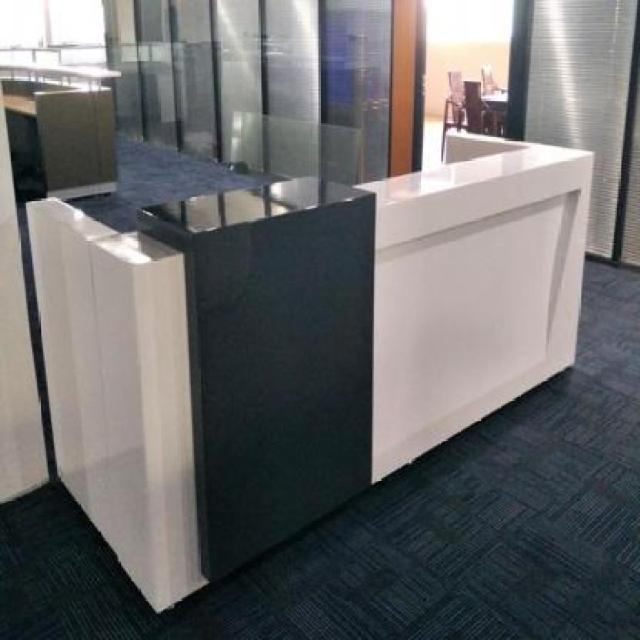frontdesk: (40, 106, 625, 633)
